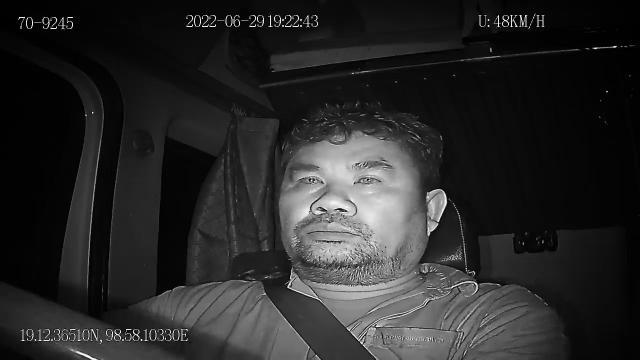SafeDriving: (346, 162, 391, 192), (286, 164, 327, 193)
Seatbelt: (230, 258, 380, 360)
